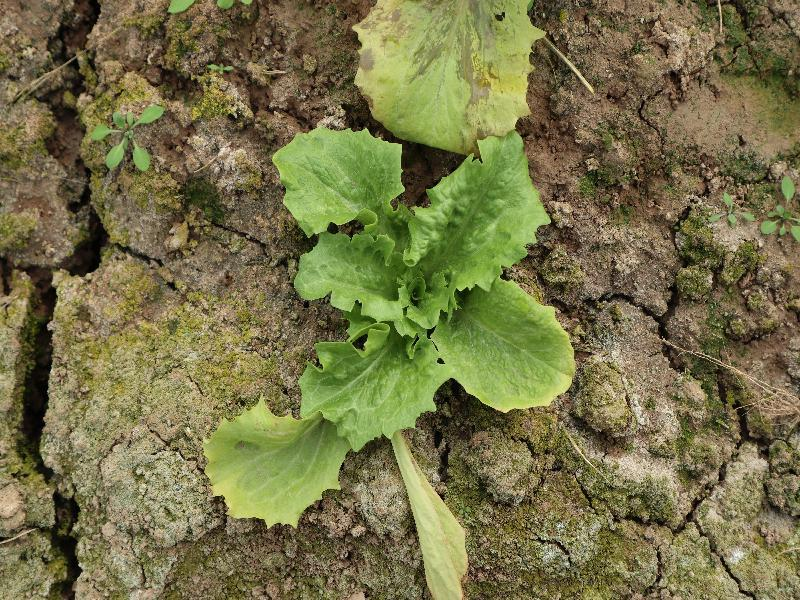lettuce: (203, 126, 578, 527)
